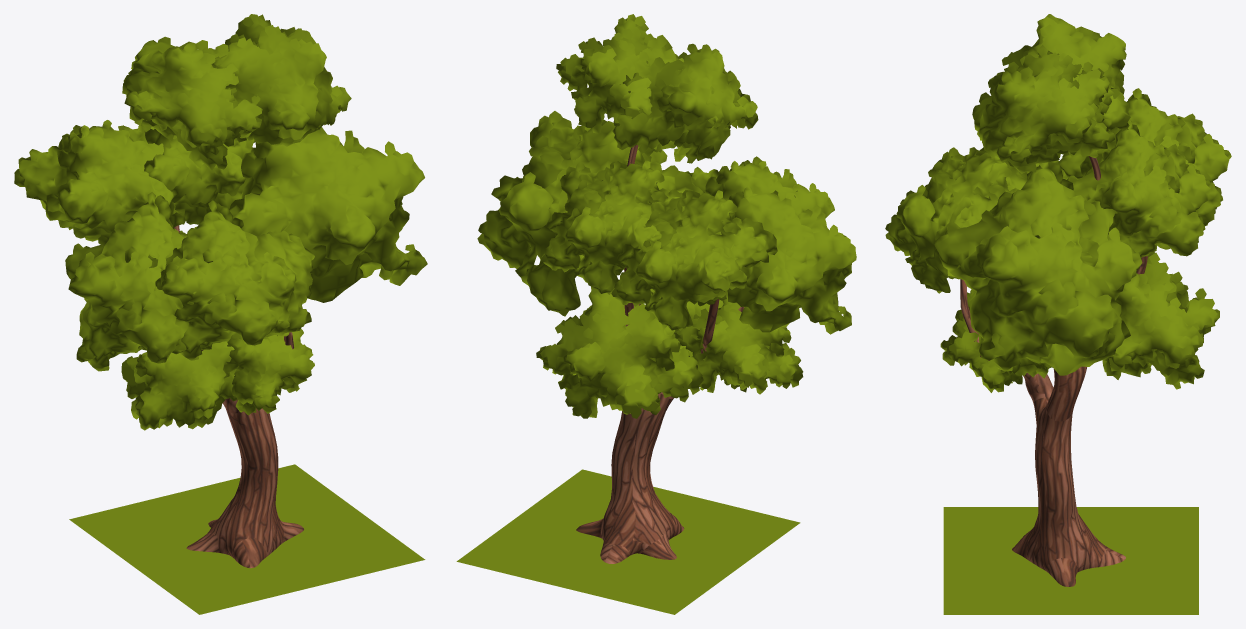
File: stylized_tree.glb
3 views of the same model, side by side, from view 1: azimuth 30°, elevation 25°; view 2: azimuth 150°, elevation 25°; view 3: azimuth 270°, elevation 25° (orthographic). The views are drawn at different scales.
Visible parts, largest first — view 1: Plane.002; view 2: Plane.002; view 3: Plane.002.
Part boxes in pixels (x1,y1,x2,y2): Plane.002: (14,14,427,614); Plane.002: (456,14,856,614); Plane.002: (885,14,1231,614).
Size of the model in its own units: 7.91 by 11.71 by 6.94.
Materials: 2 (1 with a texture image).
